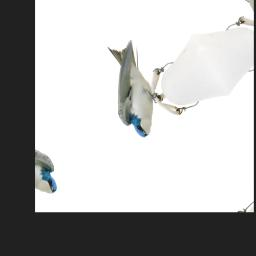Swallow: (85, 32, 181, 144)
